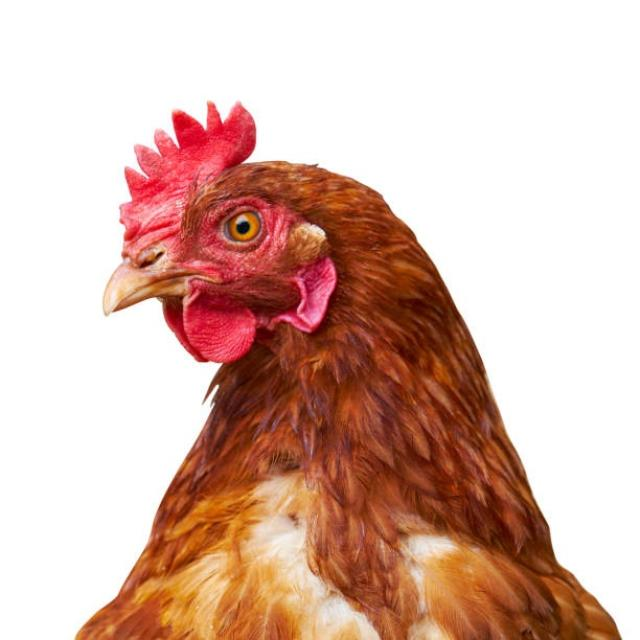Chicken: (73, 97, 622, 638)
